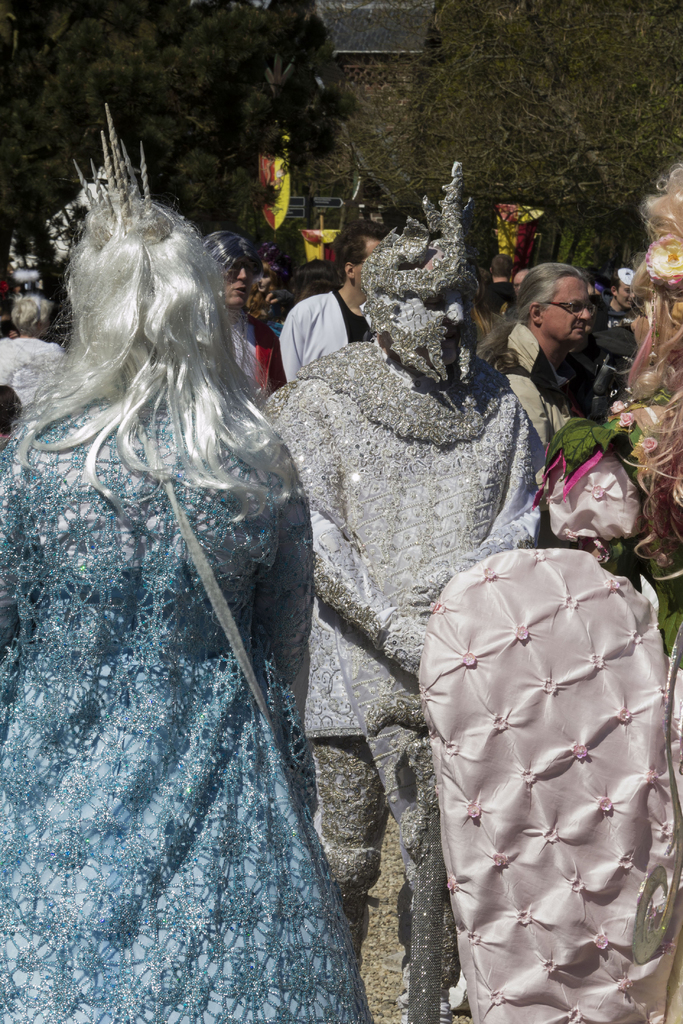Tree: (0, 0, 349, 325), (379, 17, 683, 264)
